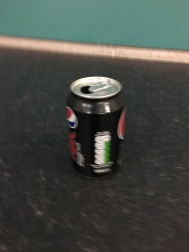can_black: (59, 69, 140, 187)
